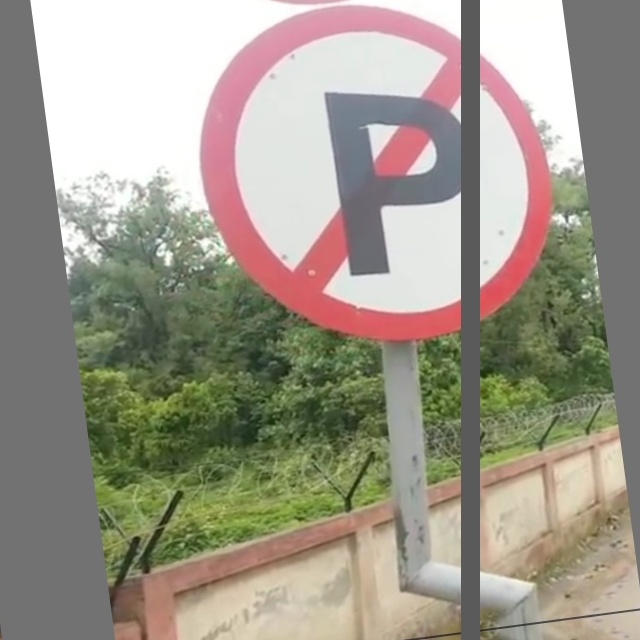No_Parking: (192, 1, 564, 356)
